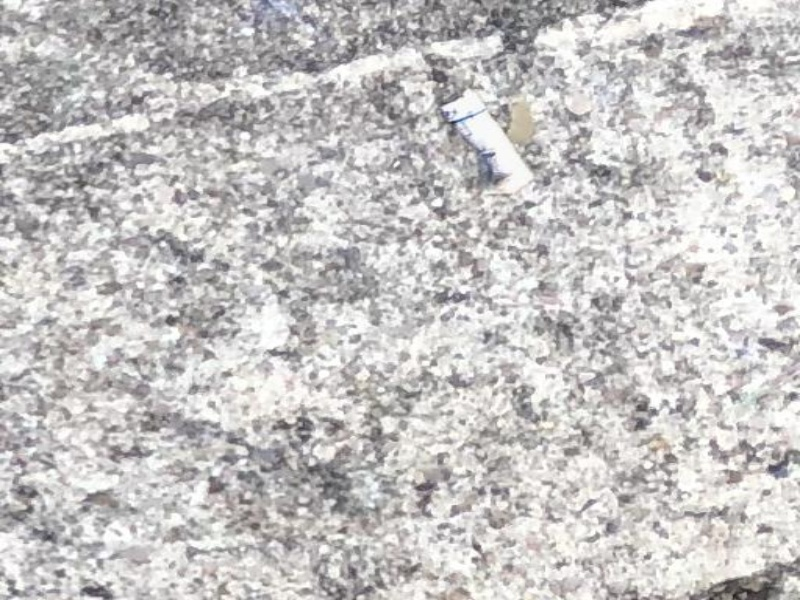cig: (439, 83, 539, 207)
